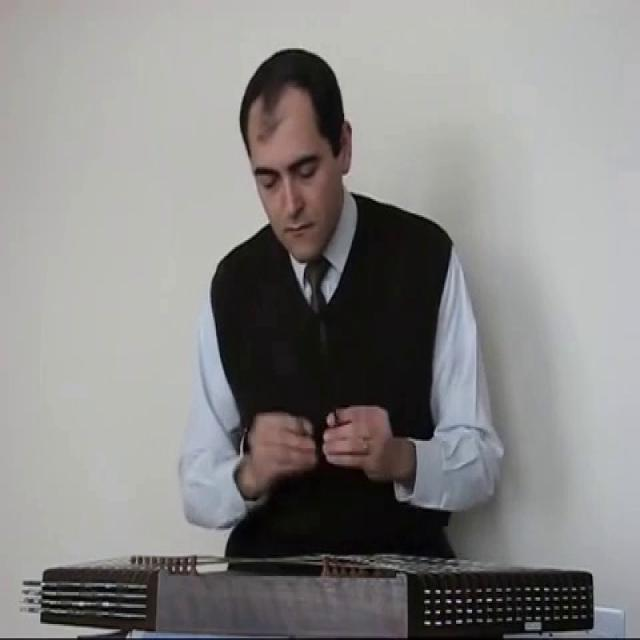Santur: (33, 545, 603, 632)
